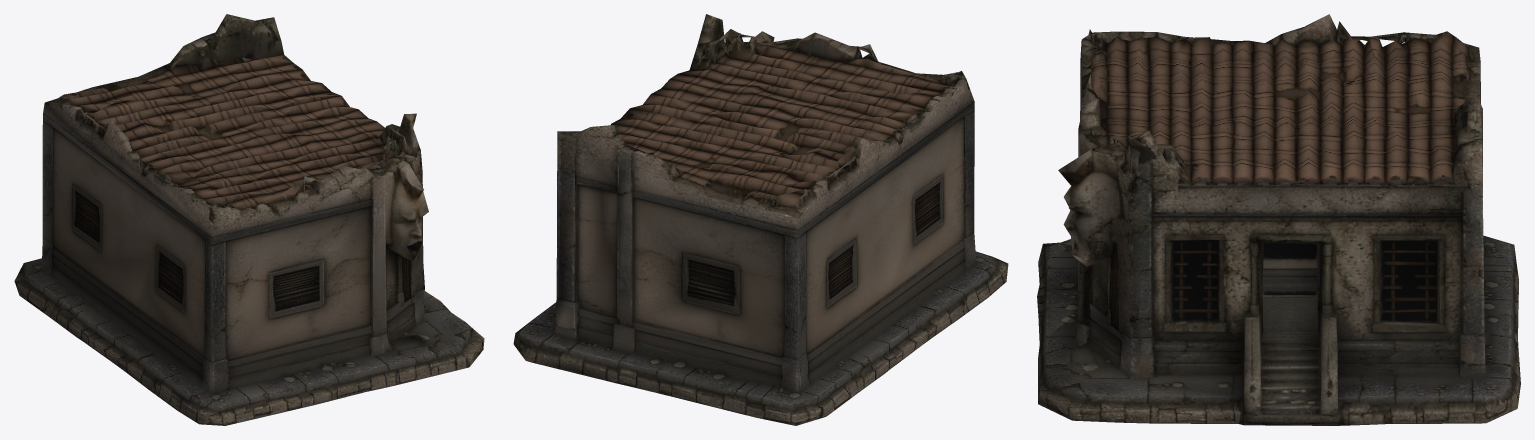
The model's file is building.glb.
The picture shows the model from 3 angles, left to right: view 1: azimuth 30°, elevation 25°; view 2: azimuth 150°, elevation 25°; view 3: azimuth 270°, elevation 25°; orthographic projection. The views are drawn at different scales.
Parts seen in each view (by area): view 1: Screaming Head Building Low; view 2: Screaming Head Building Low; view 3: Screaming Head Building Low.
Part boxes in pixels (x1=…): Screaming Head Building Low: x1=14, y1=14, x2=484, y2=425; Screaming Head Building Low: x1=513, y1=14, x2=1008, y2=425; Screaming Head Building Low: x1=1037, y1=14, x2=1520, y2=425.
Size of the model in its own units: 10.98 by 7.79 by 12.56.
Materials: 1 (1 with a texture image).
